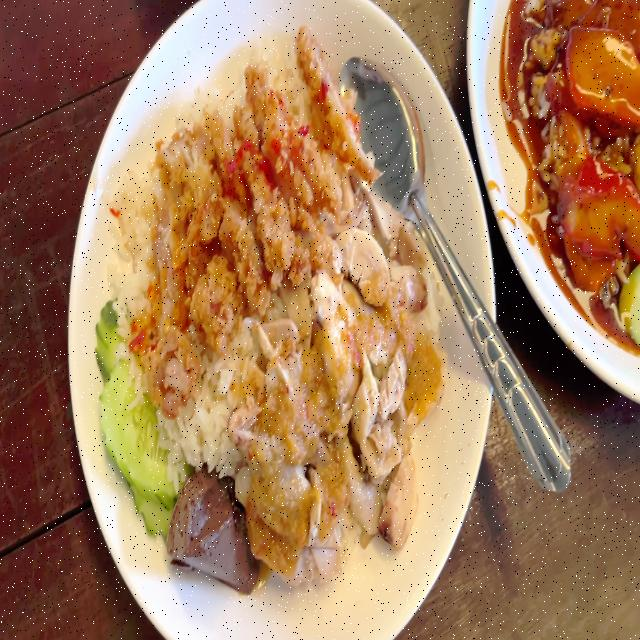boiled_chicken: (242, 188, 435, 556)
boiled_chicken_blood_jelly: (171, 465, 255, 592)
chicken_rice: (97, 27, 449, 596)
cucumber: (91, 298, 176, 535), (616, 264, 640, 342)
fried_chicken: (140, 27, 372, 402)
red_pork: (548, 155, 640, 277), (564, 25, 640, 127)
red_pork_and_crispy_pork: (525, 0, 640, 341)
